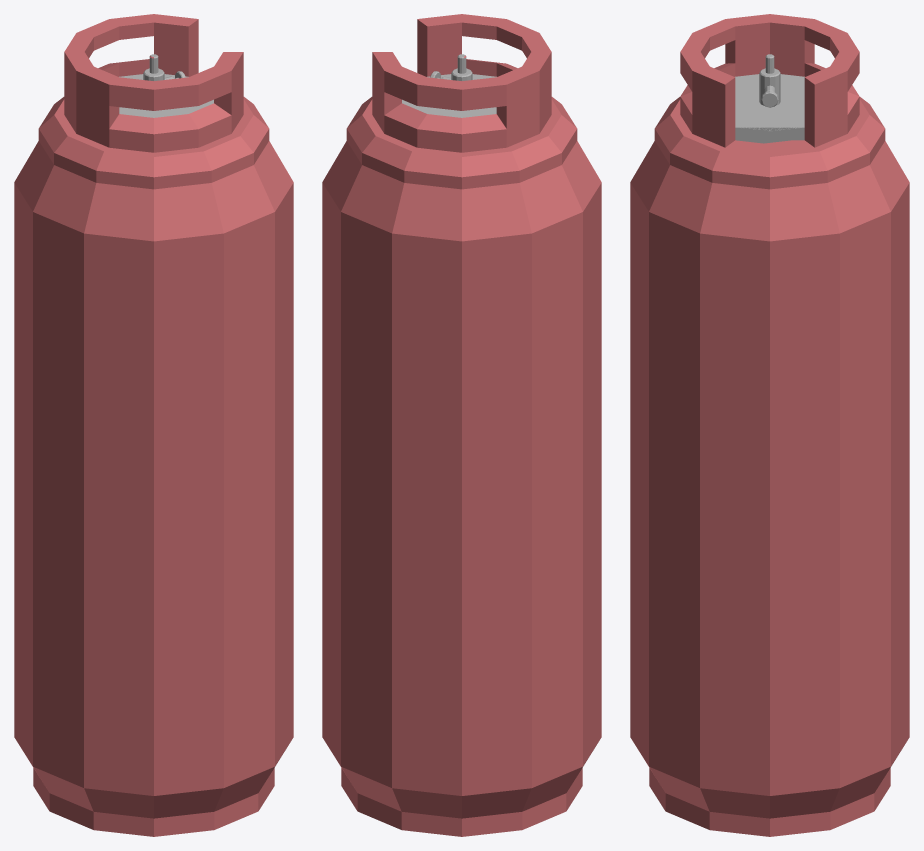
The model's file is Gas Tanks B.fbx.
3 renders of one model, left to right at view 1: azimuth 30°, elevation 25°; view 2: azimuth 150°, elevation 25°; view 3: azimuth 270°, elevation 25°, orthographic.
Parts seen in each view (by area): view 1: Gas Tank B; view 2: Gas Tank B; view 3: Gas Tank B.
Part boxes in pixels (box(x1,y1,x2,y2)): Gas Tank B: box(14, 14, 293, 836); Gas Tank B: box(322, 14, 601, 836); Gas Tank B: box(630, 14, 909, 836).
Bounding box in the file's own units: 53.93 × 156 × 53.93.
